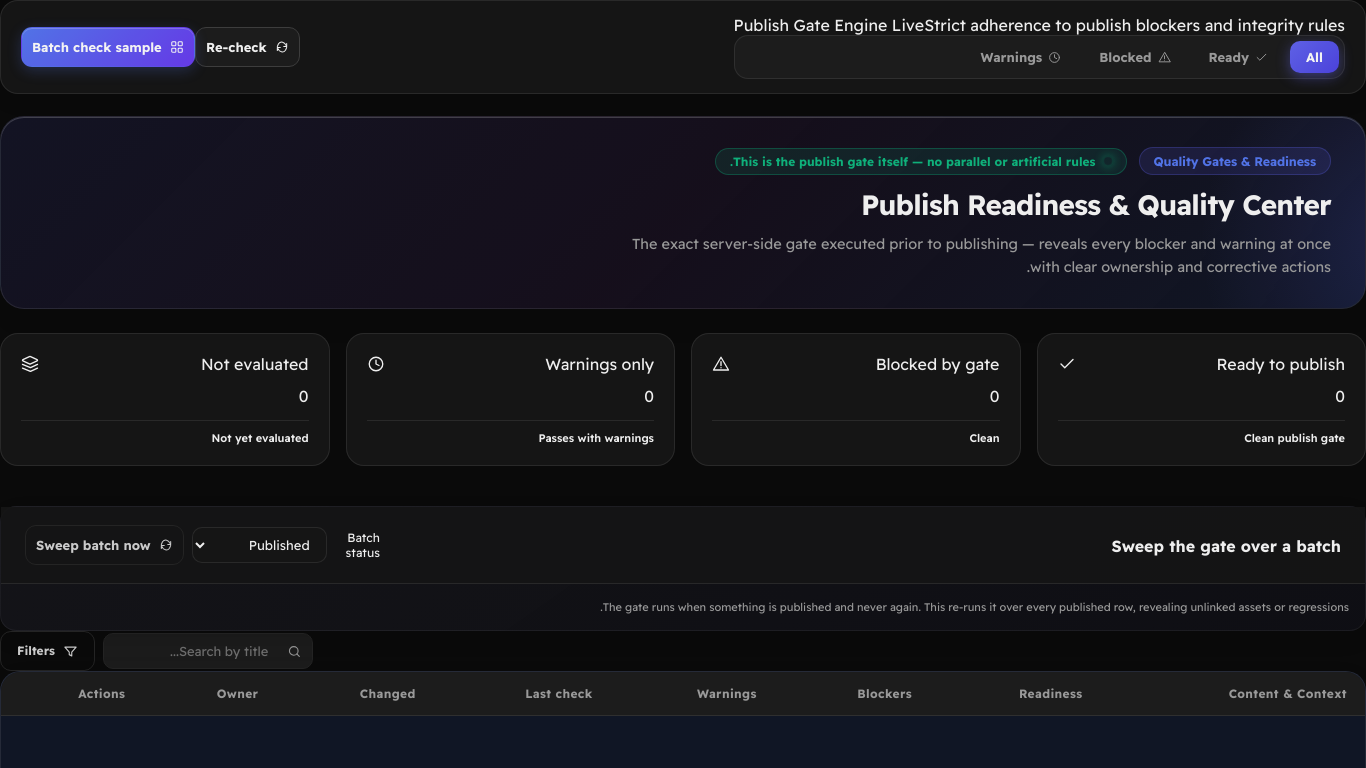
Test: مسح البوابة › الصفّ المحجوب يُسمّى ومعه ما يحجبه
This screenshot has width=1366, height=768.
Click the button "Sweep batch now": (104, 545) x1=25 y1=525 x2=184 y2=565
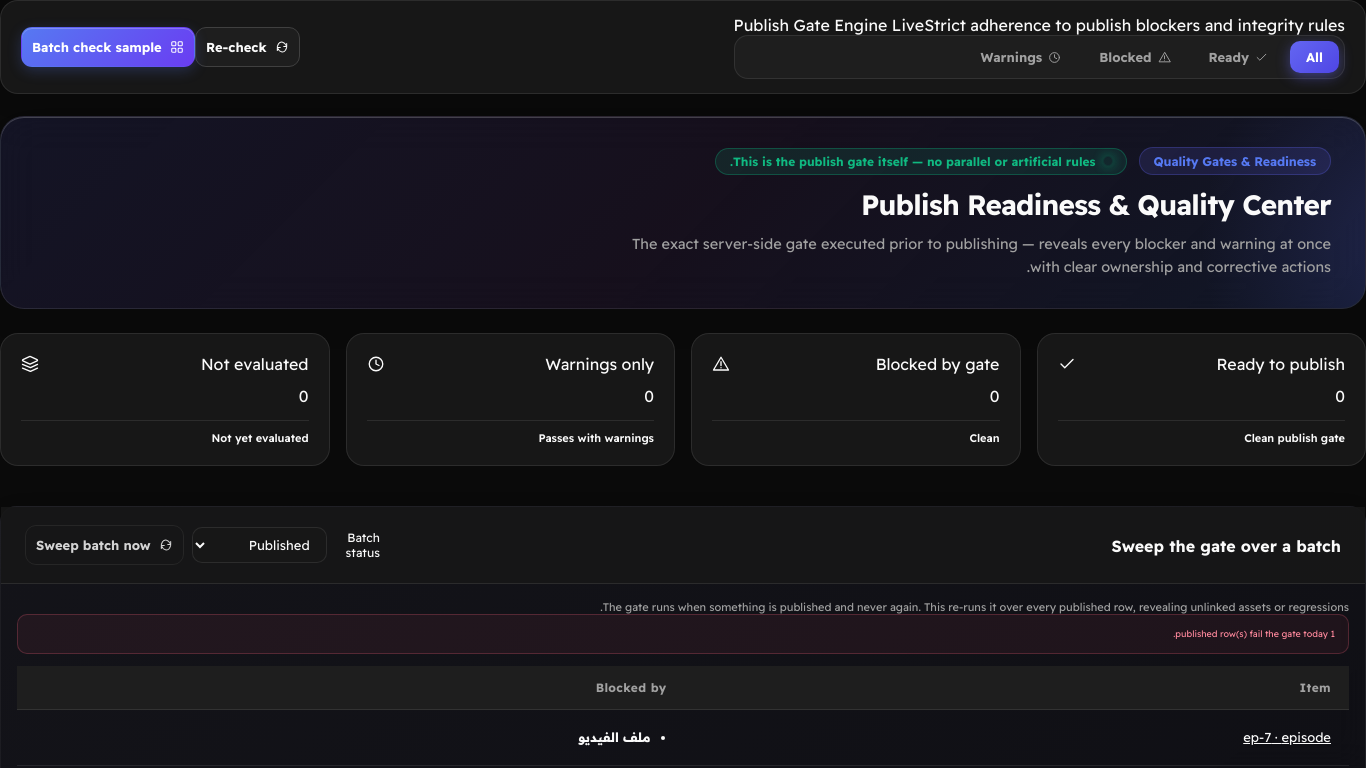
Result: the text "1 published row(s) fail the gate today." is shown at x1=17 y1=614 x2=1349 y2=654
Result: the text "ep-7" is shown at x1=1243 y1=729 x2=1271 y2=745
Result: the text "ملف الفيديو" is shown at x1=578 y1=729 x2=650 y2=745
